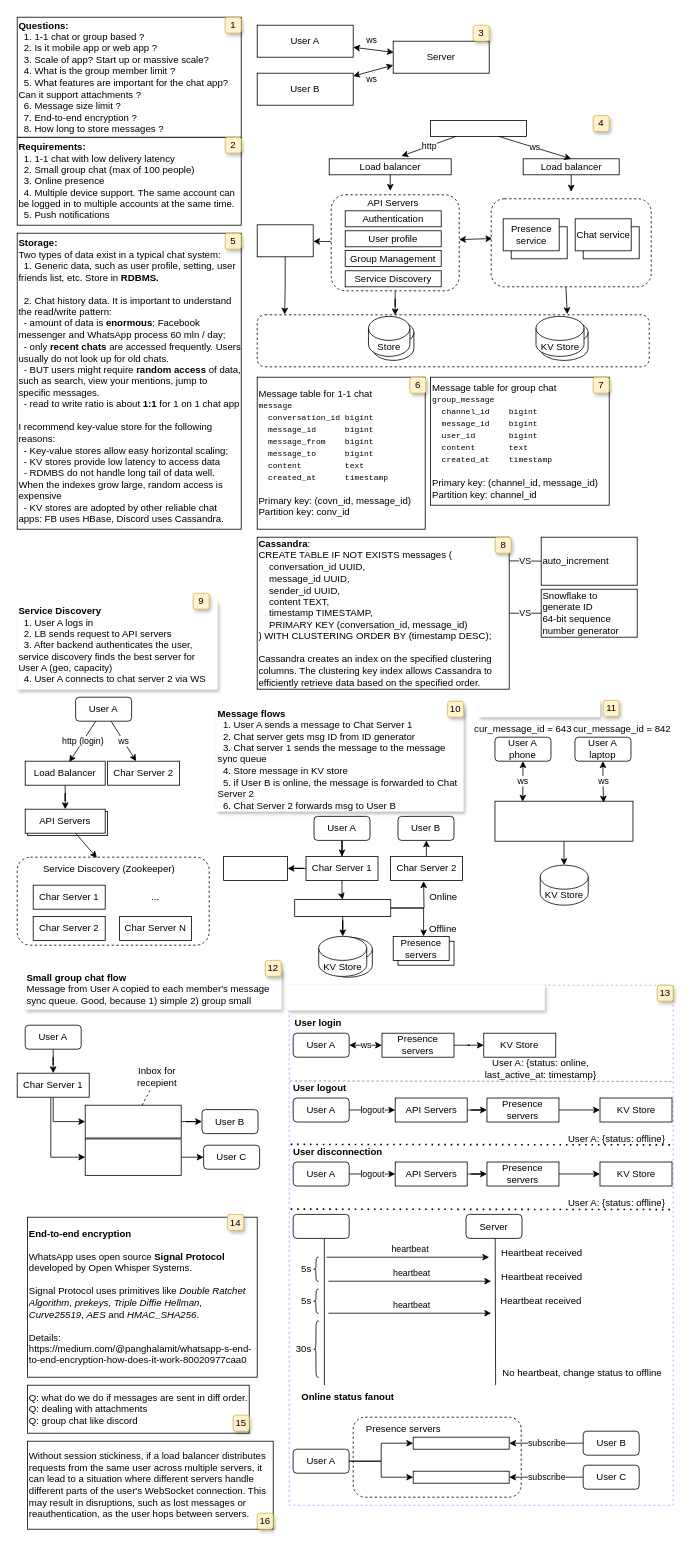
This 693x1549 diagram has some shape labels left out. Each missing label, with the centre of its shape:
"Channel A-B" belongs at (460,1442).
"Channel A-C" belongs at (460,1476).
"Chat Server 1 - Session for User A's laptop - Session for User A's phone" belongs at (563,820).
"Client" belongs at (320,1226).
"ID generator" belongs at (255,868).
"Message sync queue" belongs at (342,907).
"Message sync queue UserBQueue" belongs at (132,1121).
"Message sync queue UserCQueue" belongs at (132,1156).
"Message synchronization" belongs at (539,709).
"Notification servers" belongs at (284,240).
"Online presence" belongs at (416,998).
"User" belongs at (478,128).
